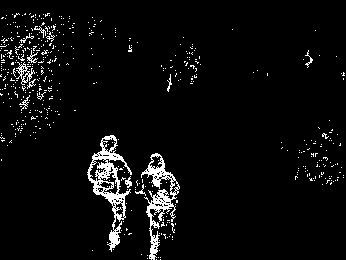person: (87, 135, 132, 248), (133, 152, 180, 260)
